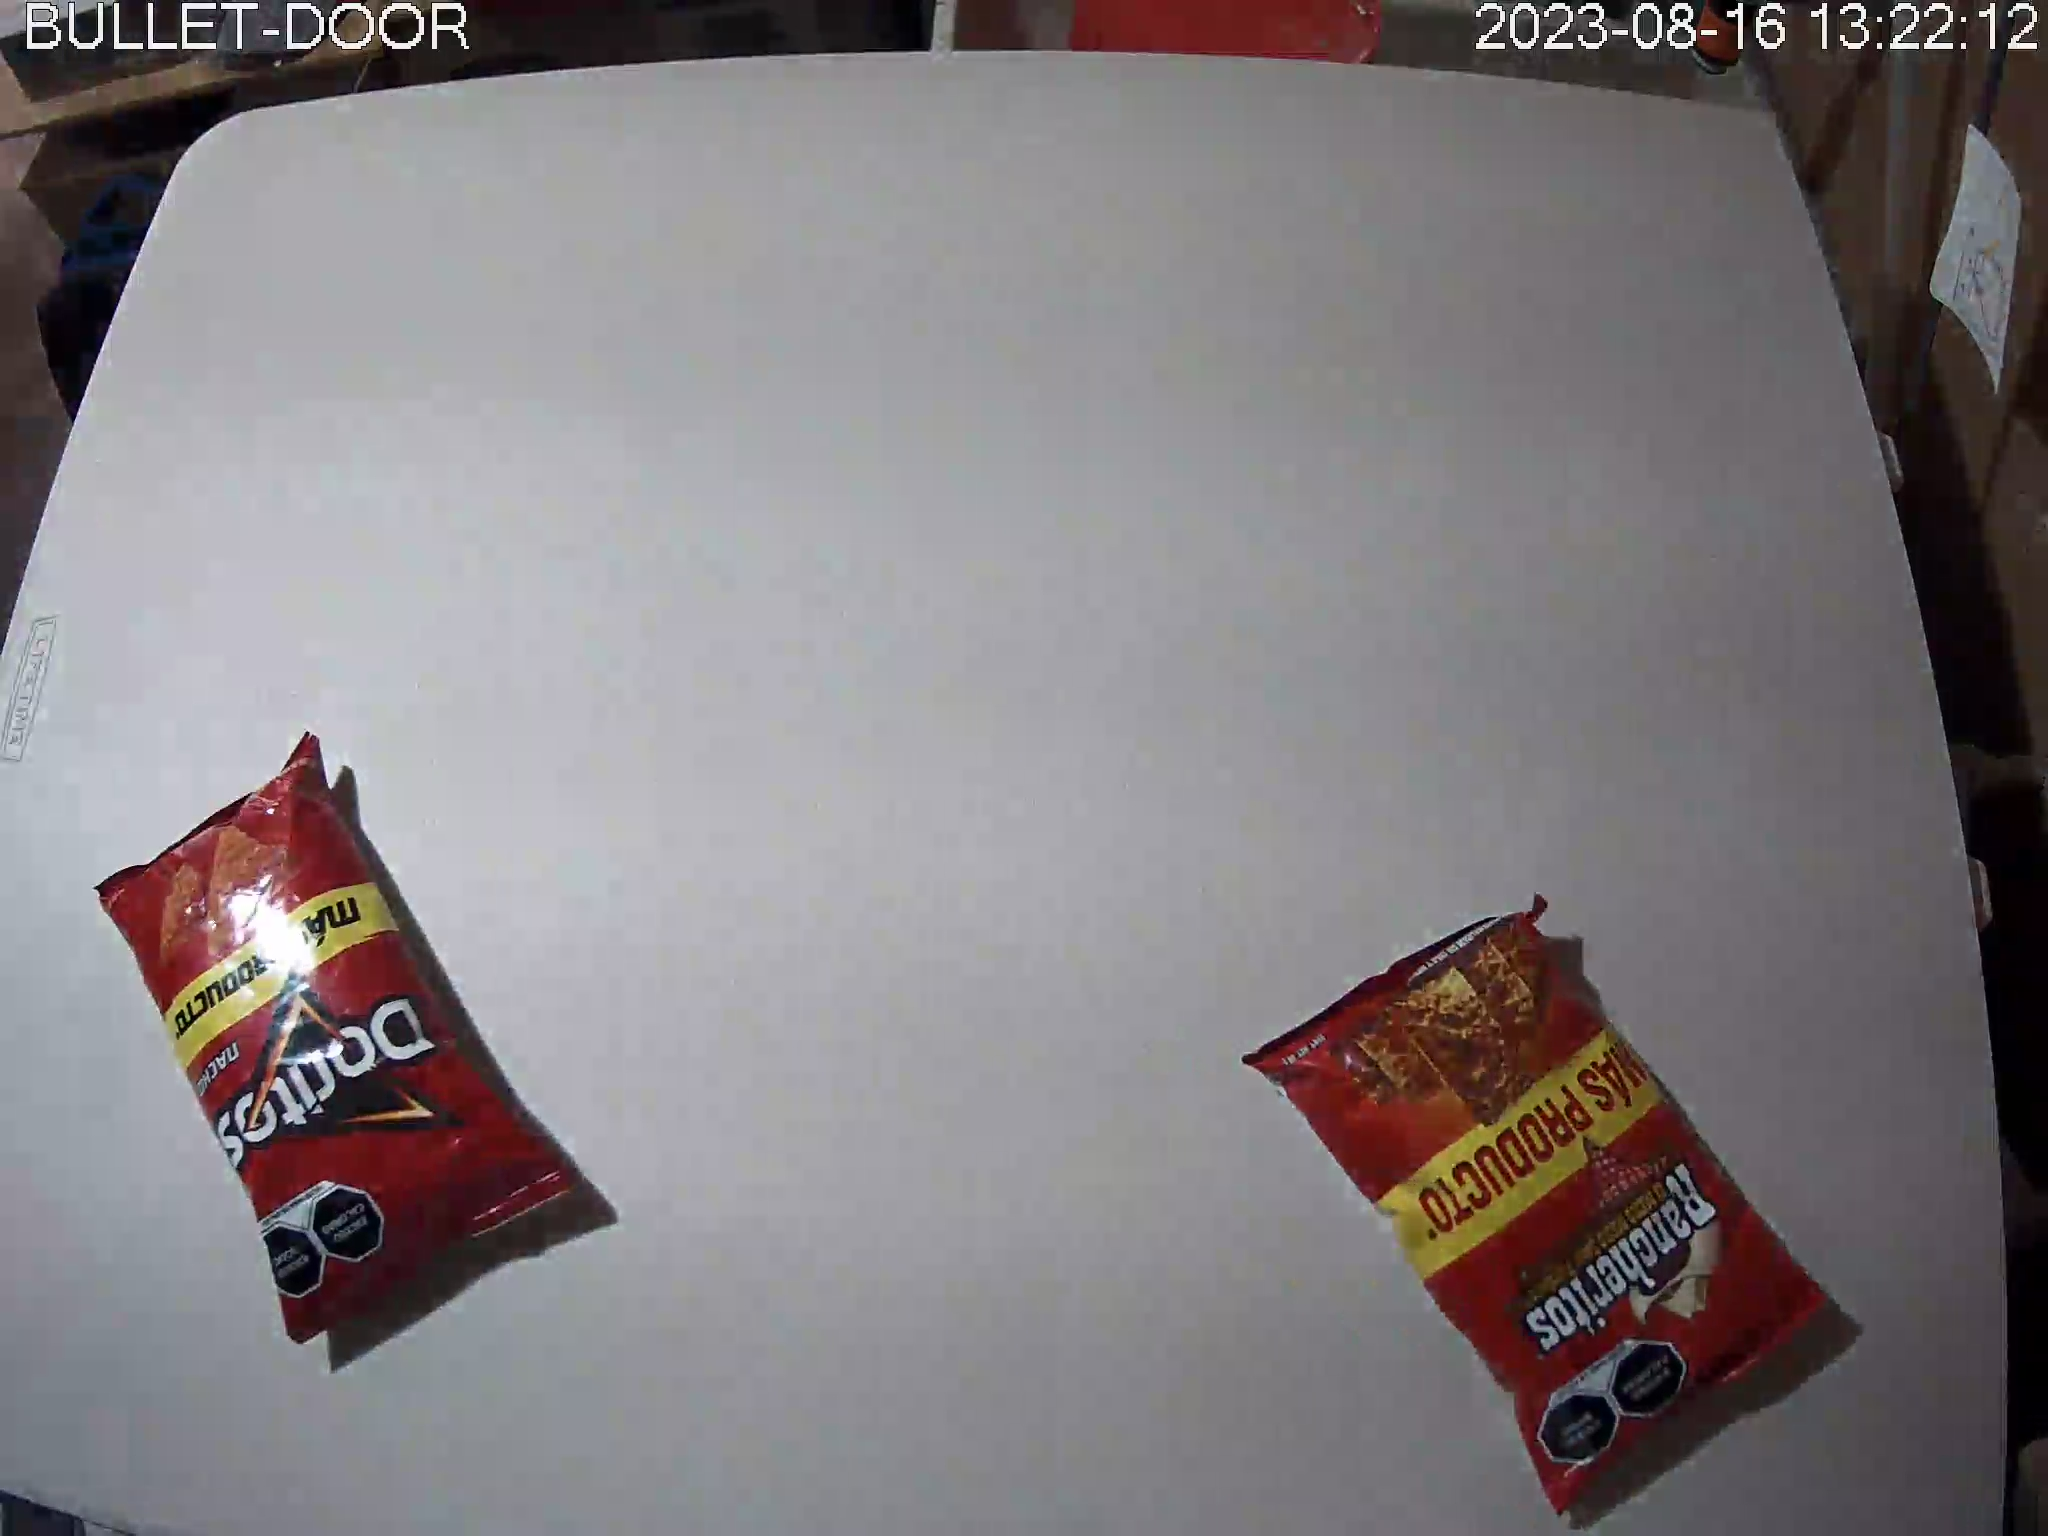DoritosN_61_F: (92, 729, 584, 1342)
Rancheritos_58_F: (1242, 892, 1842, 1520)
